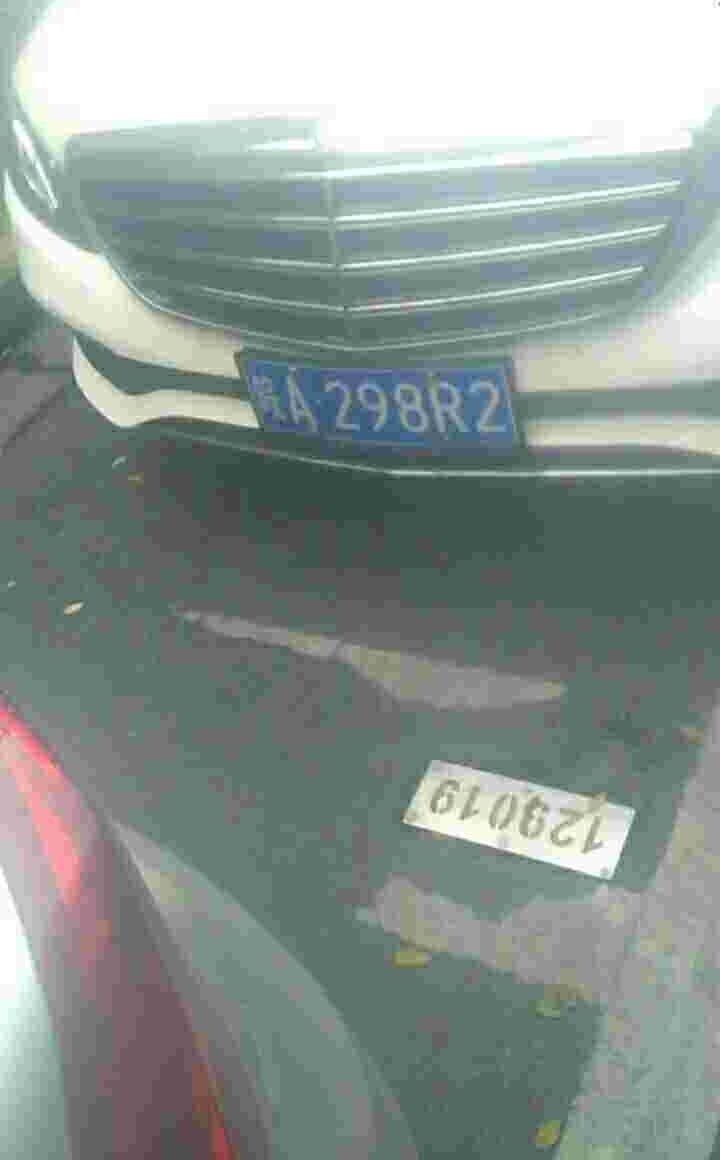license_plate: (227, 355, 515, 457)
